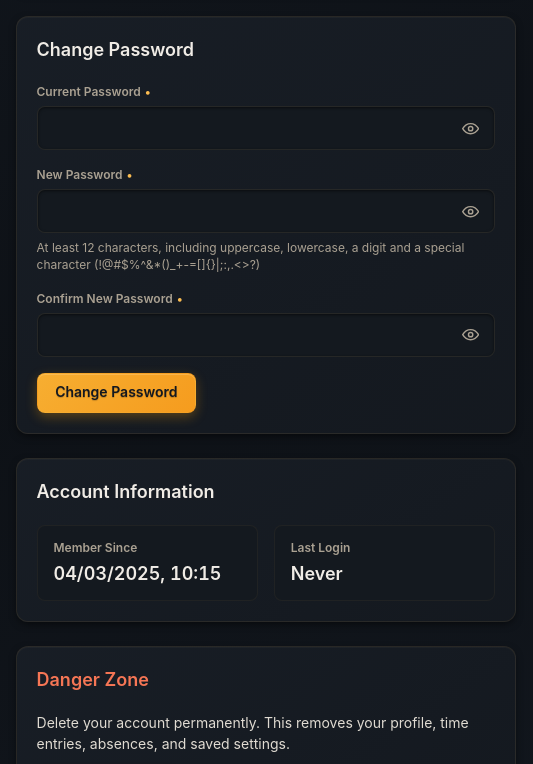
Test case: SettingsPage – password › validates required fields
This screenshot has width=533, height=764.
(page scrolled)
Step 1. Click the button "Change Password" → (116, 392), box [36,372,196,412]
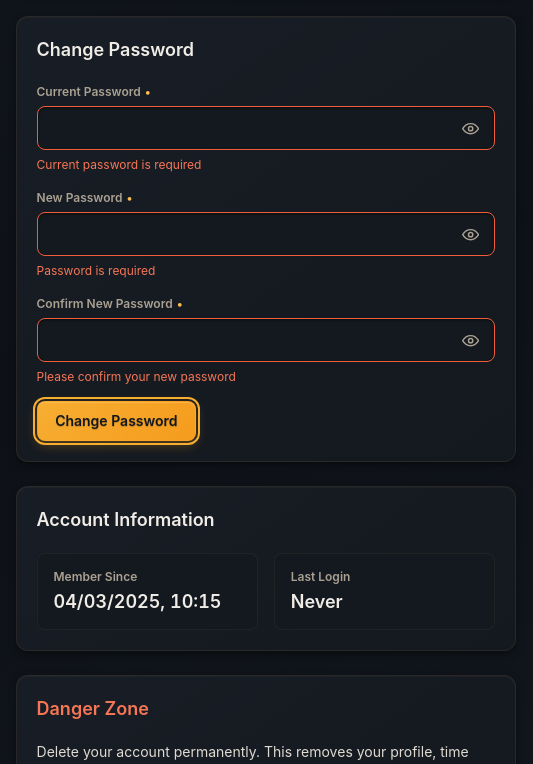
Now the text "Current password is required" is shown, box [36,157,201,172]
Now the text "Password is required" is shown, box [36,263,155,278]
Now the text "Please confirm your new password" is shown, box [36,369,236,384]
